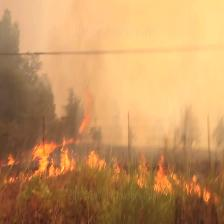fire: (2, 86, 90, 184), (135, 149, 222, 205), (86, 150, 108, 170)
